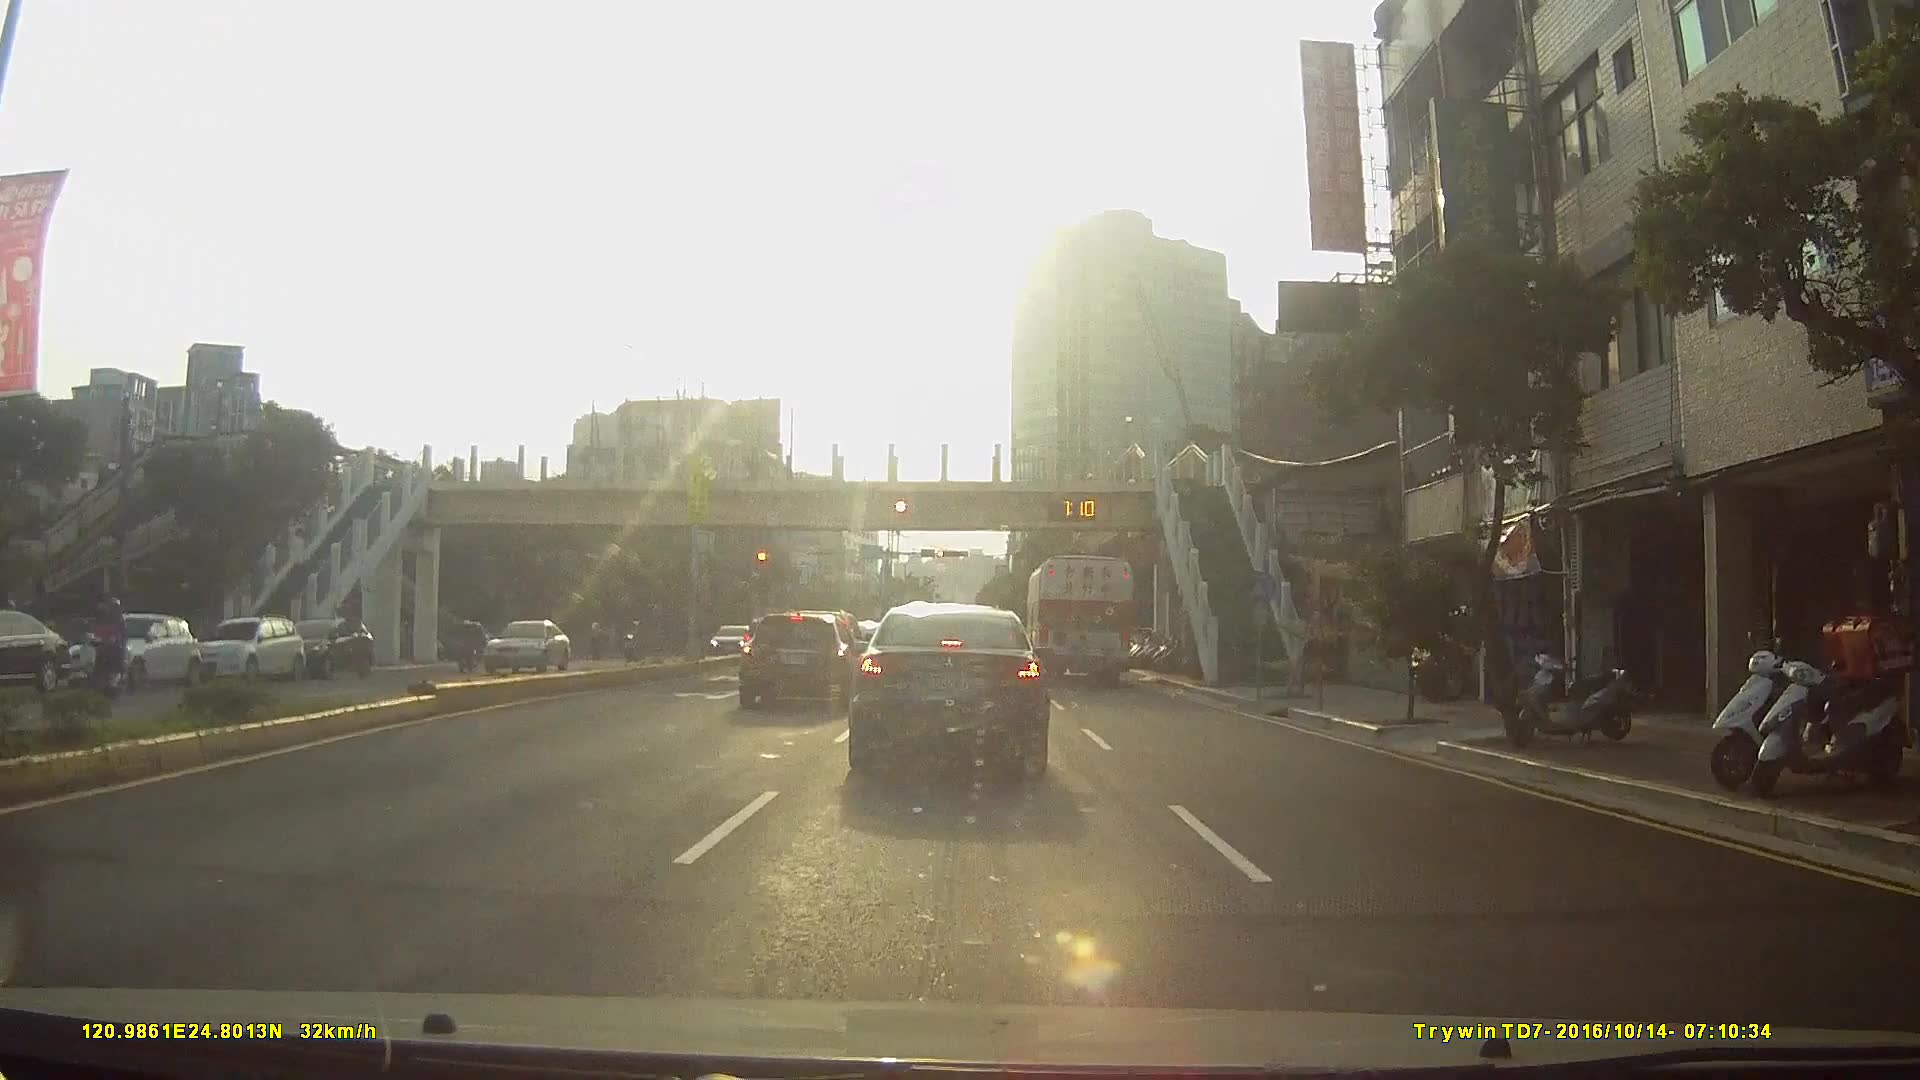rider: (59, 595, 136, 708)
vehicle: (844, 598, 1053, 778), (1025, 548, 1137, 683), (732, 603, 862, 706), (59, 609, 196, 687), (185, 612, 303, 680), (281, 615, 373, 676), (474, 616, 565, 674), (0, 607, 60, 691), (707, 623, 750, 657)
